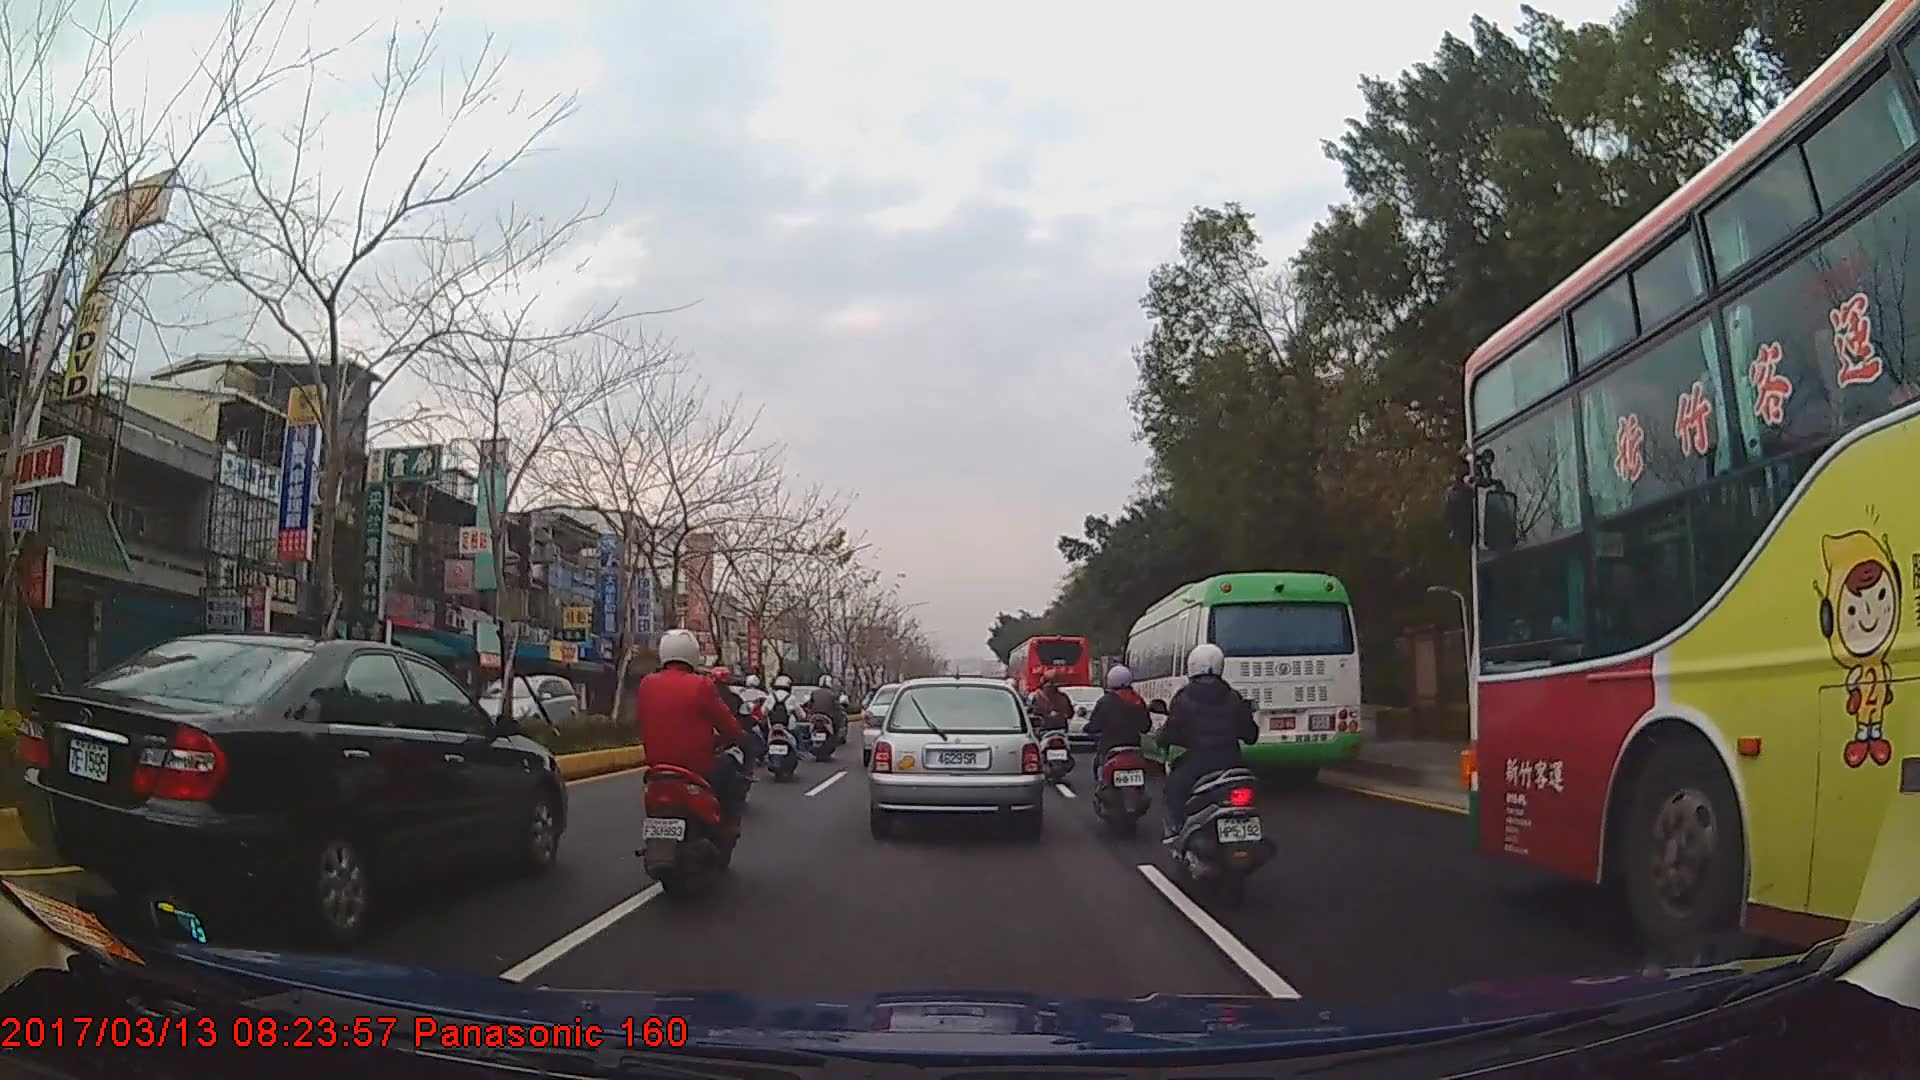rider: (627, 625, 751, 905), (1156, 645, 1276, 894), (1083, 663, 1158, 839), (688, 664, 763, 812), (1032, 665, 1077, 787), (761, 675, 809, 779), (811, 675, 850, 761), (735, 672, 775, 749)
vehicle: (1462, 0, 1920, 968), (24, 629, 566, 943), (1119, 572, 1361, 787), (866, 677, 1037, 832), (460, 671, 580, 743), (1006, 633, 1090, 729)
